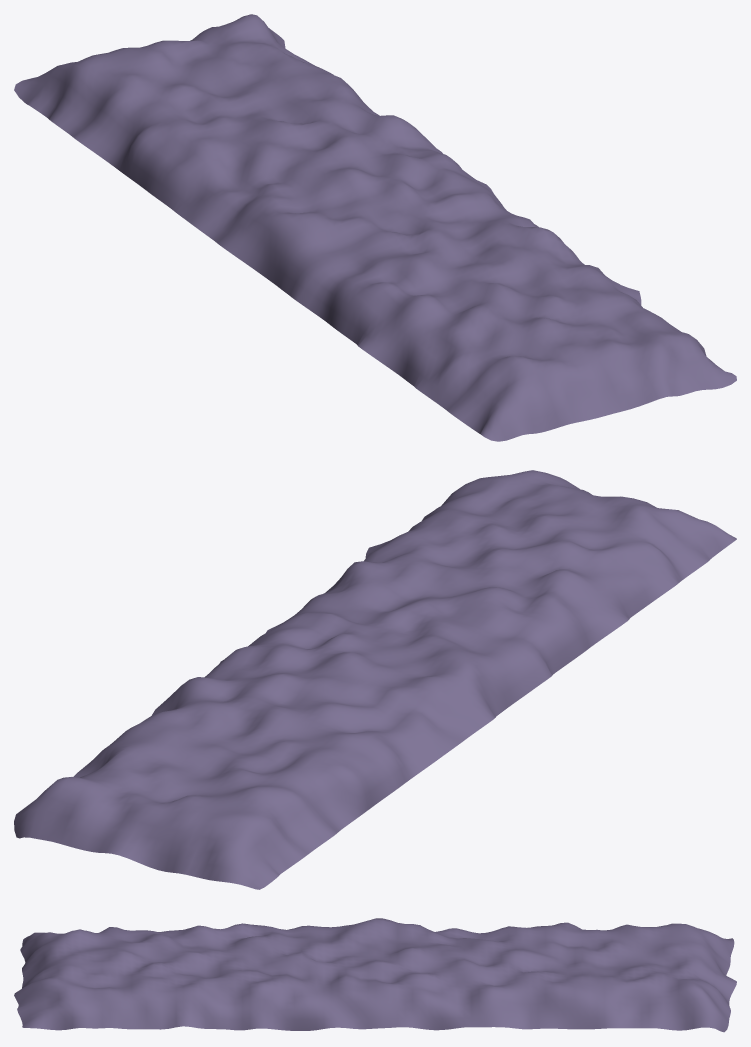
The model's file is TerrainSample.fbx.
3 views of the same model, one above another, from view 1: azimuth 30°, elevation 25°; view 2: azimuth 150°, elevation 25°; view 3: azimuth 270°, elevation 25° (orthographic). The views are drawn at different scales.
Visible parts, largest first — view 1: Plane; view 2: Plane; view 3: Plane.
Boxes of the visible parts, bbox=[...] form: Plane: bbox=[14, 14, 736, 441]; Plane: bbox=[14, 470, 736, 889]; Plane: bbox=[14, 918, 736, 1032].
Bounding box in the file's own units: 649 × 128 × 2038.
